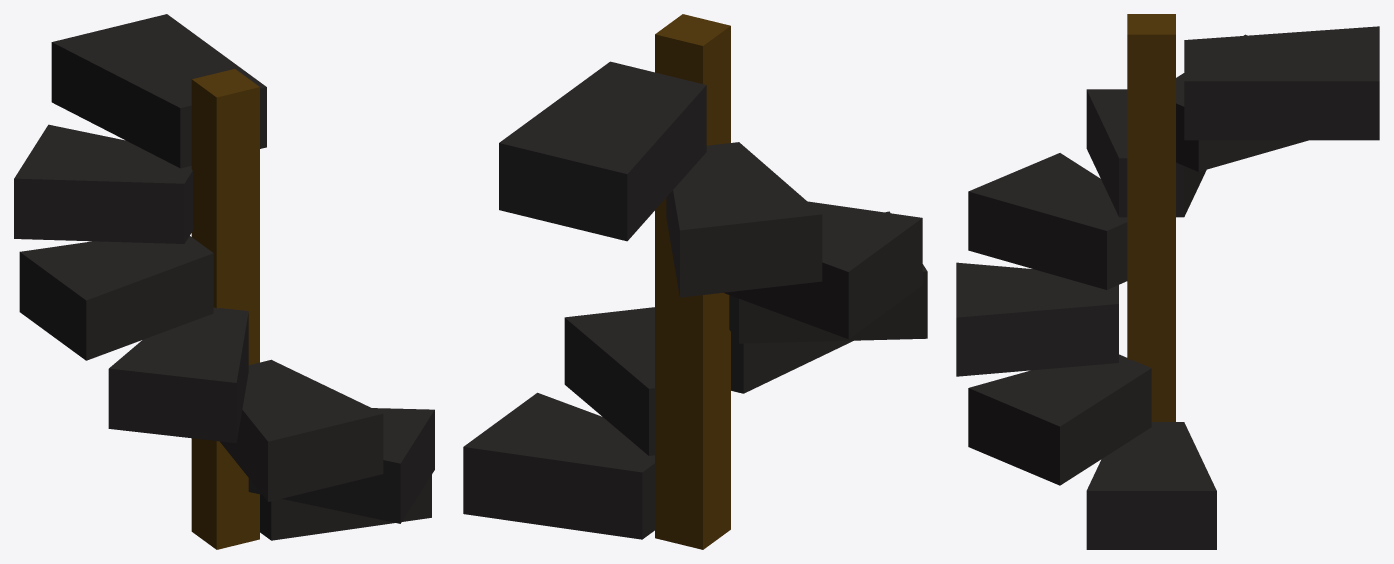
The model's file is obj_stairs_7_0.obj.
The picture shows the model from 3 angles, left to right: view 1: azimuth 30°, elevation 25°; view 2: azimuth 150°, elevation 25°; view 3: azimuth 270°, elevation 25°; orthographic projection. The views are drawn at different scales.
Size of the model in its own units: 1.5 by 1.88 by 1.62.
